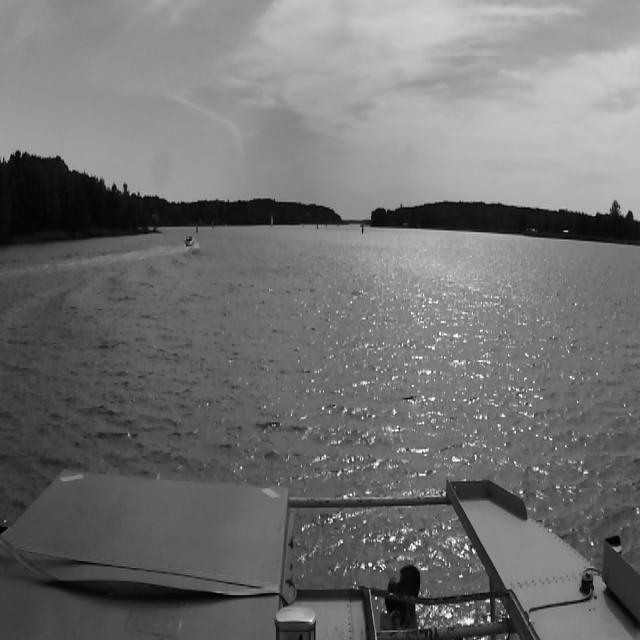ship: (184, 237, 194, 247)
